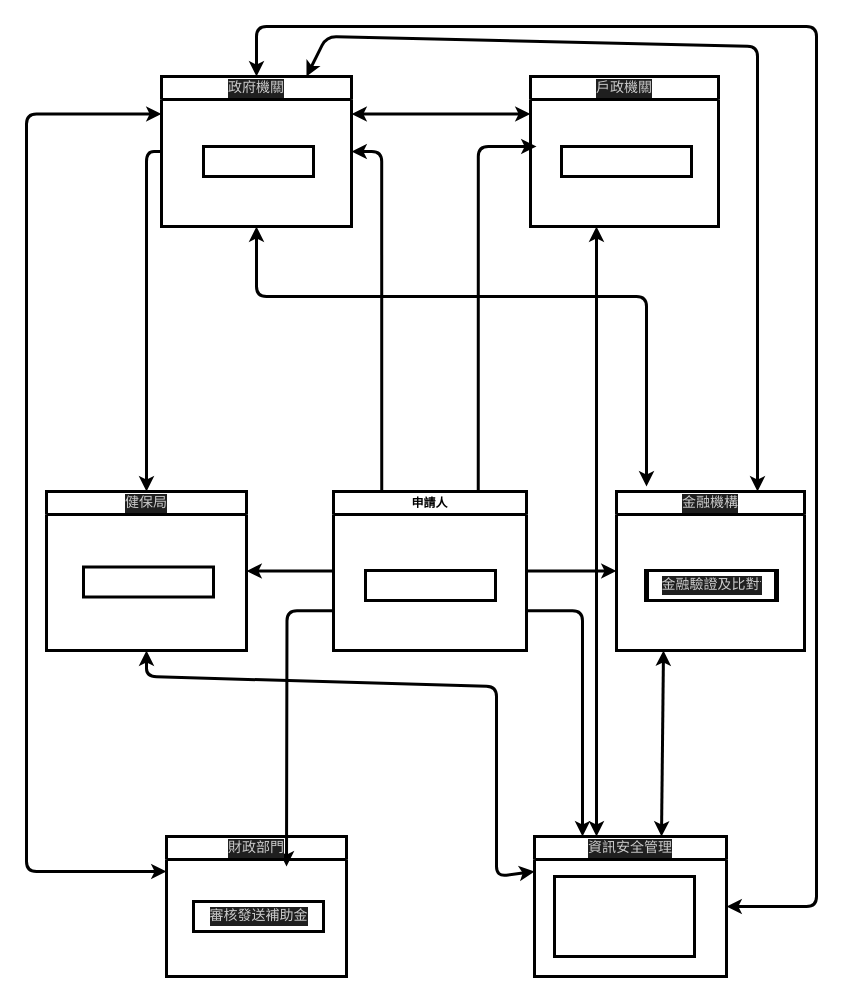
This 844x995 diagram has some shape labels left out. The centre of each missing label's shape, as x and y in pixels:
健保驗證及比對: point (148, 581)
戶政驗證及比對: point (626, 161)
申請資料審核: point (258, 161)
資料填寫及提交: point (430, 585)
資料隱私安全管理: point (624, 916)
